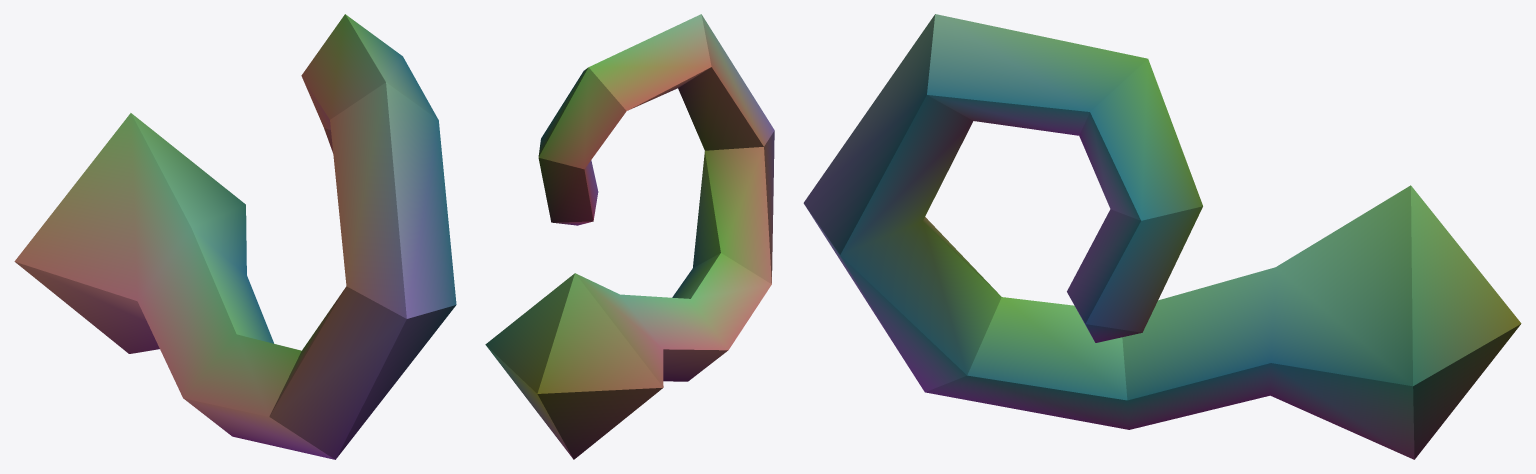
The model's file is Blob_Rig.fbx.
3 views of the same model, side by side, from view 1: azimuth 30°, elevation 25°; view 2: azimuth 150°, elevation 25°; view 3: azimuth 270°, elevation 25° (orthographic). The views are drawn at different scales.
Parts seen in each view (by area): view 1: Tentackle2; view 2: Tentackle2; view 3: Tentackle2.
Part boxes in pixels (bbox=[...]): Tentackle2: bbox=[14, 14, 456, 459]; Tentackle2: bbox=[485, 14, 774, 459]; Tentackle2: bbox=[803, 14, 1521, 459].
Bounding box in the file's own units: 112 × 156 × 216.
